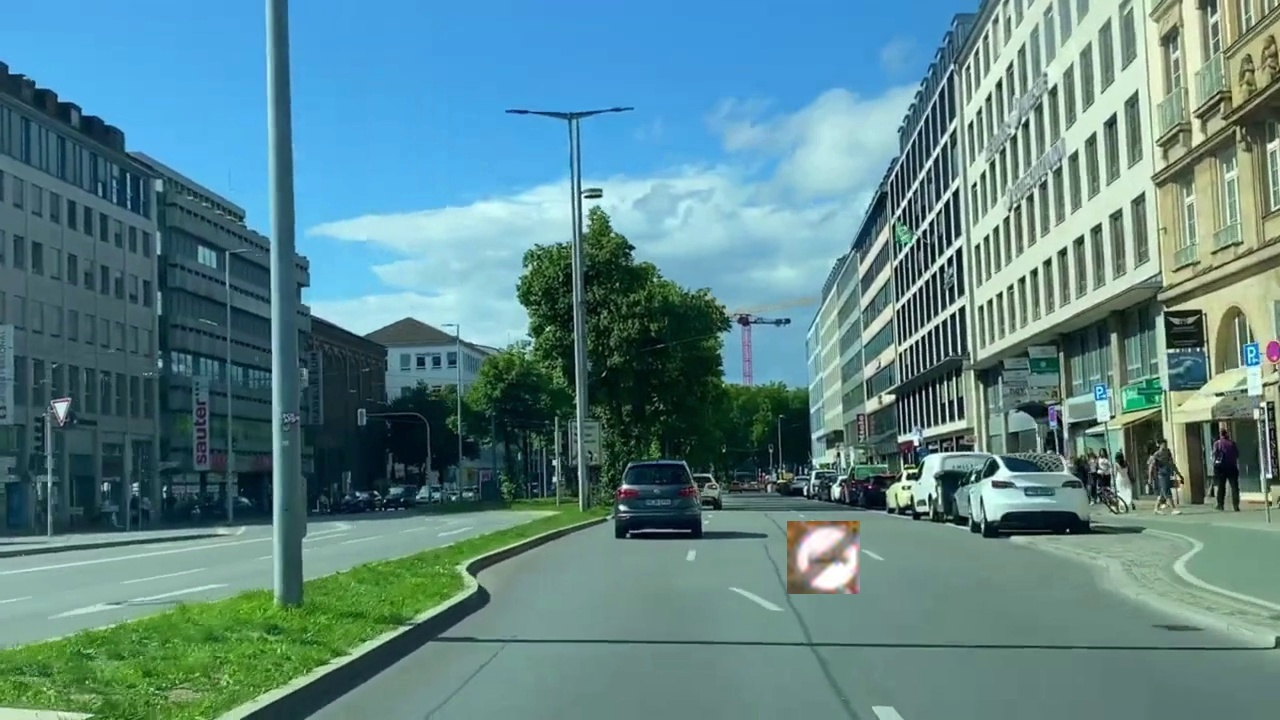End no pass: (787, 521, 860, 594)
